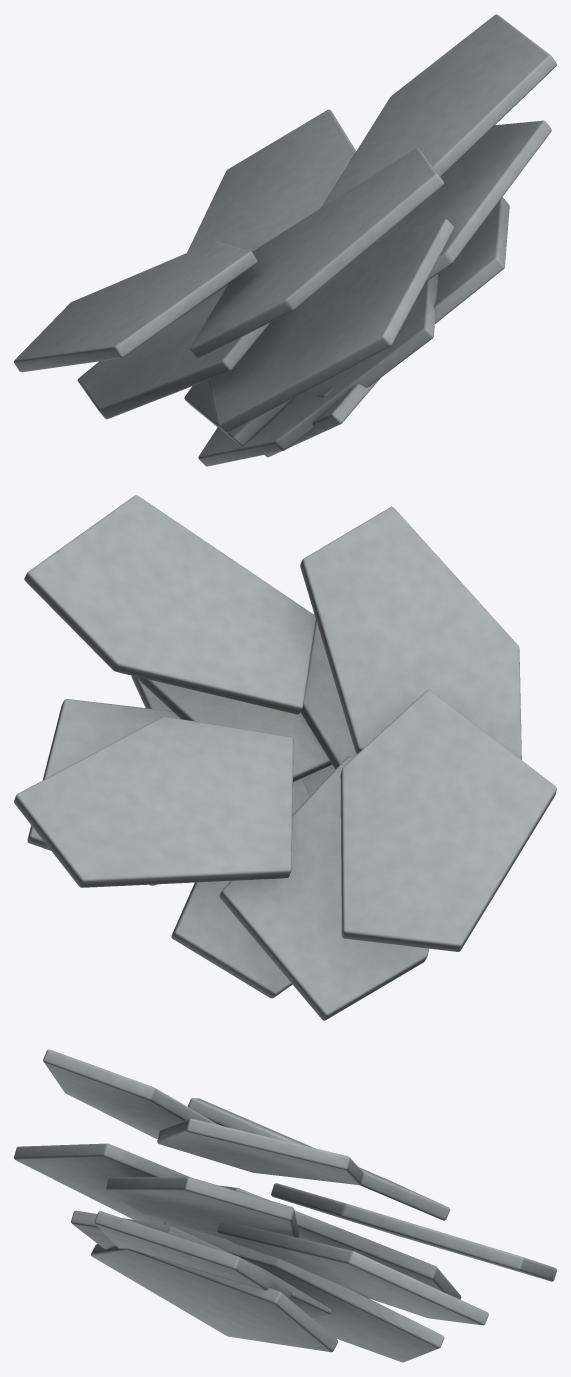
The picture shows the model from 3 angles, top to bottom: view 1: azimuth 30°, elevation 25°; view 2: azimuth 150°, elevation 25°; view 3: azimuth 270°, elevation 25°; orthographic projection. The views are drawn at different scales.
Parts seen in each view (by area): view 1: Thin mica-like flake; view 2: Thin mica-like flake; view 3: Thin mica-like flake.
Boxes of the visible parts, x1=… form: Thin mica-like flake: x1=14, y1=14, x2=556, y2=466; Thin mica-like flake: x1=14, y1=495, x2=556, y2=1020; Thin mica-like flake: x1=14, y1=1049, x2=556, y2=1362.
Bounding box in the file's own units: 0.8053 × 0.6115 × 0.8349.
Materials: 1 (1 with a texture image).
